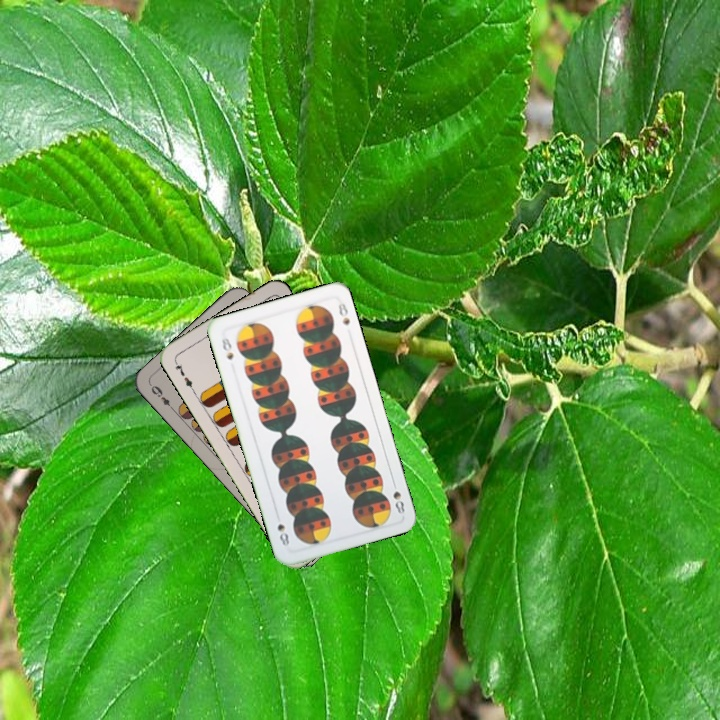E7: (170, 357, 197, 394)
E9: (147, 381, 177, 414)
S8: (388, 476, 407, 517), (217, 334, 236, 363)
